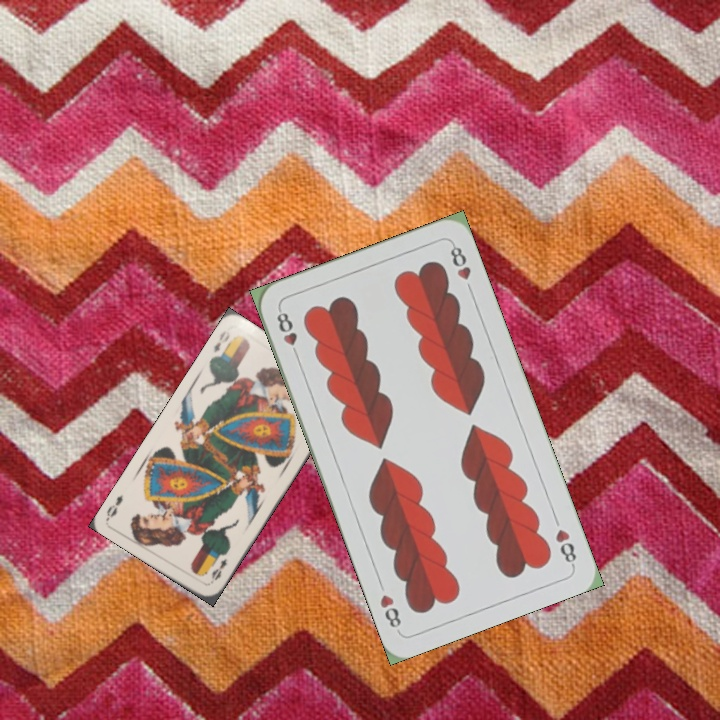EO: (209, 326, 233, 355), (207, 554, 229, 583)
H8: (272, 305, 303, 362), (551, 525, 579, 569)
